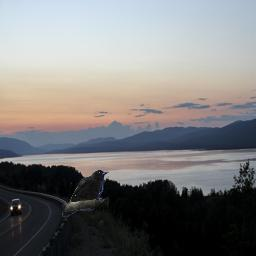Crow: (62, 170, 109, 217)
